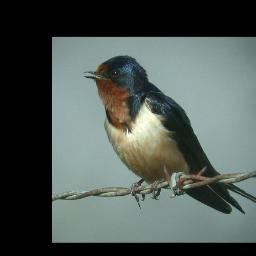Swallow: (83, 55, 256, 215)
